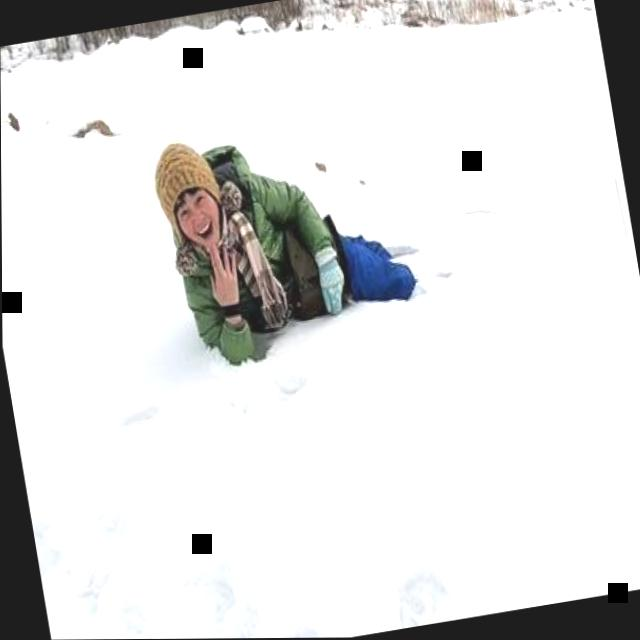Fall-Detected: (127, 90, 439, 380)
